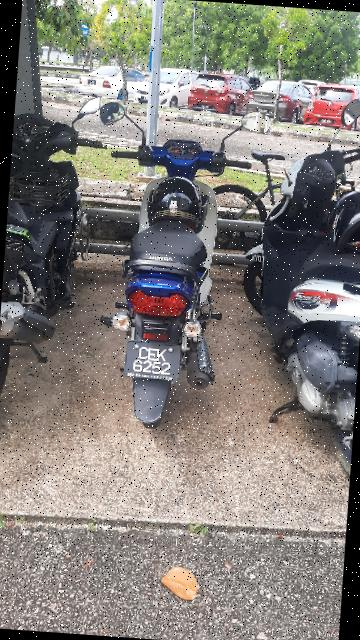License_Plate: (118, 329, 190, 393)
motorcycle: (66, 92, 272, 432)
